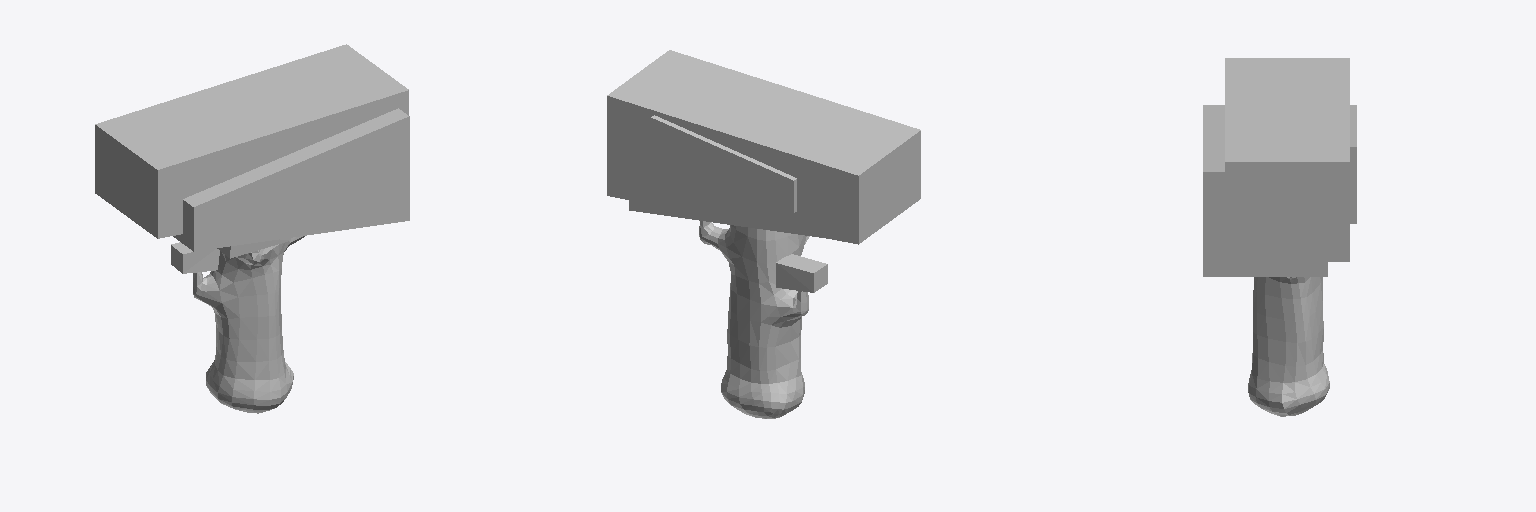
Rendered from tree2.obj.
3 renders of one model, left to right at view 1: azimuth 30°, elevation 25°; view 2: azimuth 150°, elevation 25°; view 3: azimuth 270°, elevation 25°, orthographic.
Parts seen in each view (by area): view 1: tree2_Group1.000; view 2: tree2_Group1.000; view 3: tree2_Group1.000.
Part boxes in pixels (bbox=[...]): tree2_Group1.000: bbox=[95, 44, 409, 413]; tree2_Group1.000: bbox=[607, 50, 920, 418]; tree2_Group1.000: bbox=[1203, 58, 1356, 416].
Size of the model in its own units: 11.65 by 13.74 by 6.16.